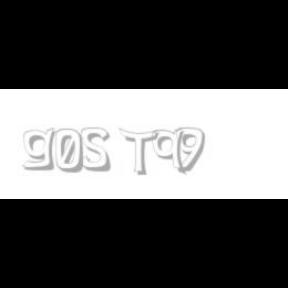0: (56, 128, 86, 174)
9: (176, 128, 206, 172)
S: (80, 128, 112, 172)
T: (118, 128, 158, 176)
g: (22, 128, 60, 171)
q: (151, 128, 187, 176)
